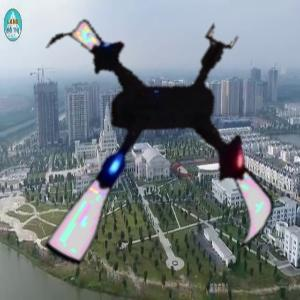drone: (1, 2, 297, 298)
